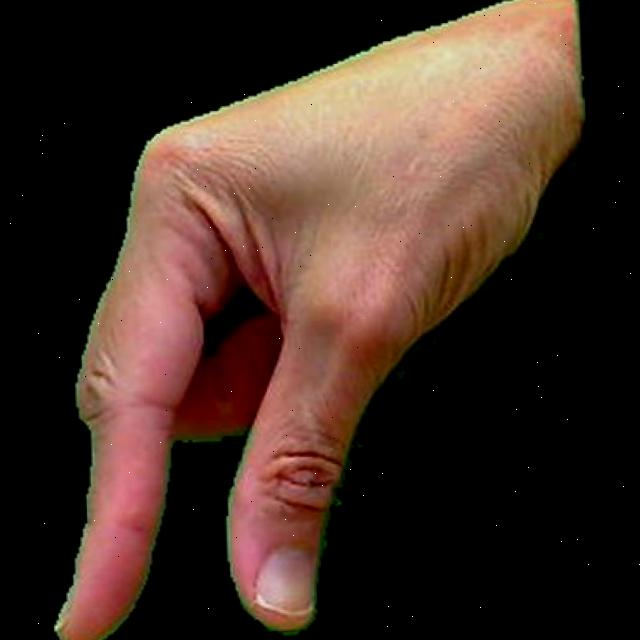q: (11, 0, 623, 640)
